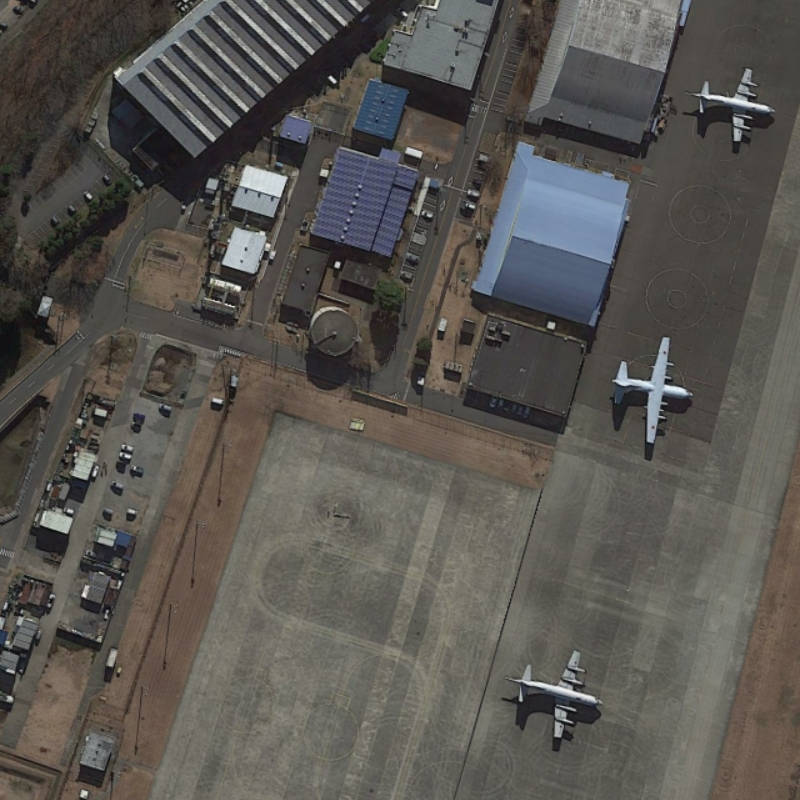A2: (605, 322, 699, 460)
A9: (498, 639, 610, 753), (682, 60, 778, 154)
